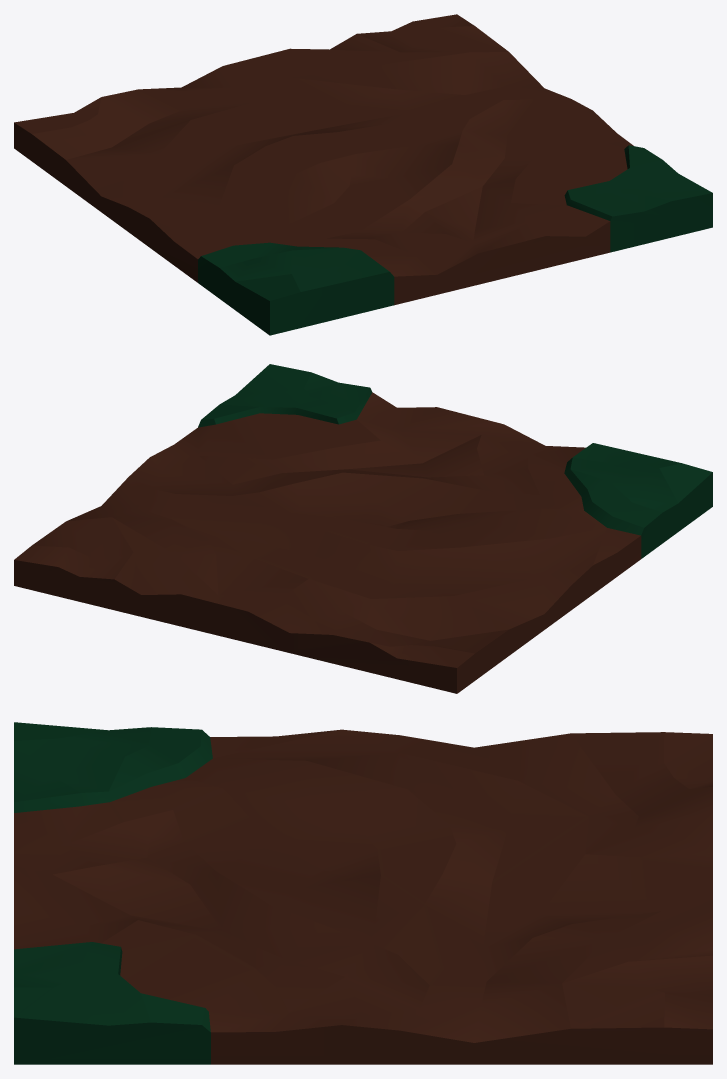
Rendered from Ground_Path_Entrance_B.fbx.
3 renders of one model, top to bottom at view 1: azimuth 30°, elevation 25°; view 2: azimuth 150°, elevation 25°; view 3: azimuth 270°, elevation 25°, orthographic. The views are drawn at different scales.
Visible parts, largest first — view 1: Ground_Path_Entrance_B; view 2: Ground_Path_Entrance_B; view 3: Ground_Path_Entrance_B.
Boxes of the visible parts, x1,y1,x2,y2 form: Ground_Path_Entrance_B: [14, 14, 712, 335]; Ground_Path_Entrance_B: [14, 364, 712, 693]; Ground_Path_Entrance_B: [14, 722, 712, 1064].
Size of the model in its own units: 147 by 12.96 by 147.
